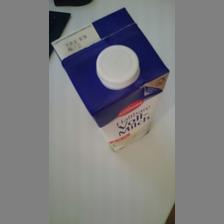Milch: (48, 7, 176, 153)
